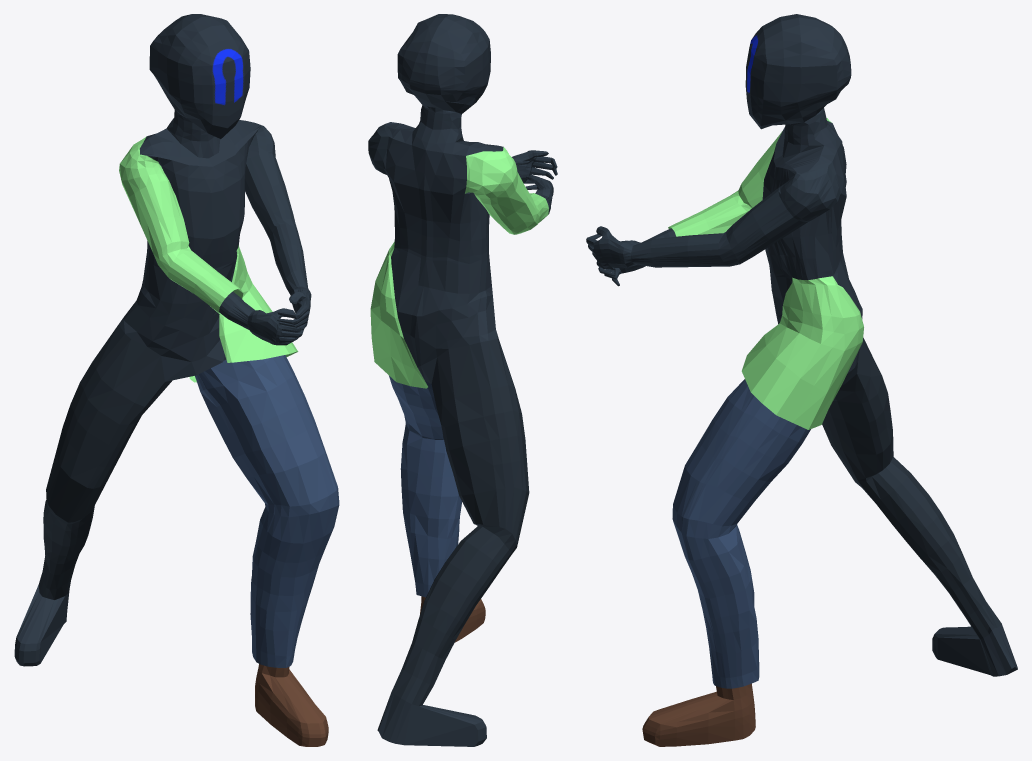
File: Mar_WR_000004.obj
3 renders of one model, left to right at view 1: azimuth 30°, elevation 25°; view 2: azimuth 150°, elevation 25°; view 3: azimuth 270°, elevation 25°, orthographic. The views are drawn at different scales.
Parts seen in each view (by area): view 1: Cube.000_Cube.001; view 2: Cube.000_Cube.001; view 3: Cube.000_Cube.001.
Boxes of the visible parts, x1,y1,x2,y2 form: Cube.000_Cube.001: (14,14,339,746); Cube.000_Cube.001: (368,14,557,746); Cube.000_Cube.001: (586,14,1017,746).
Bounding box in the file's own units: 1.14 × 3.73 × 2.08.
